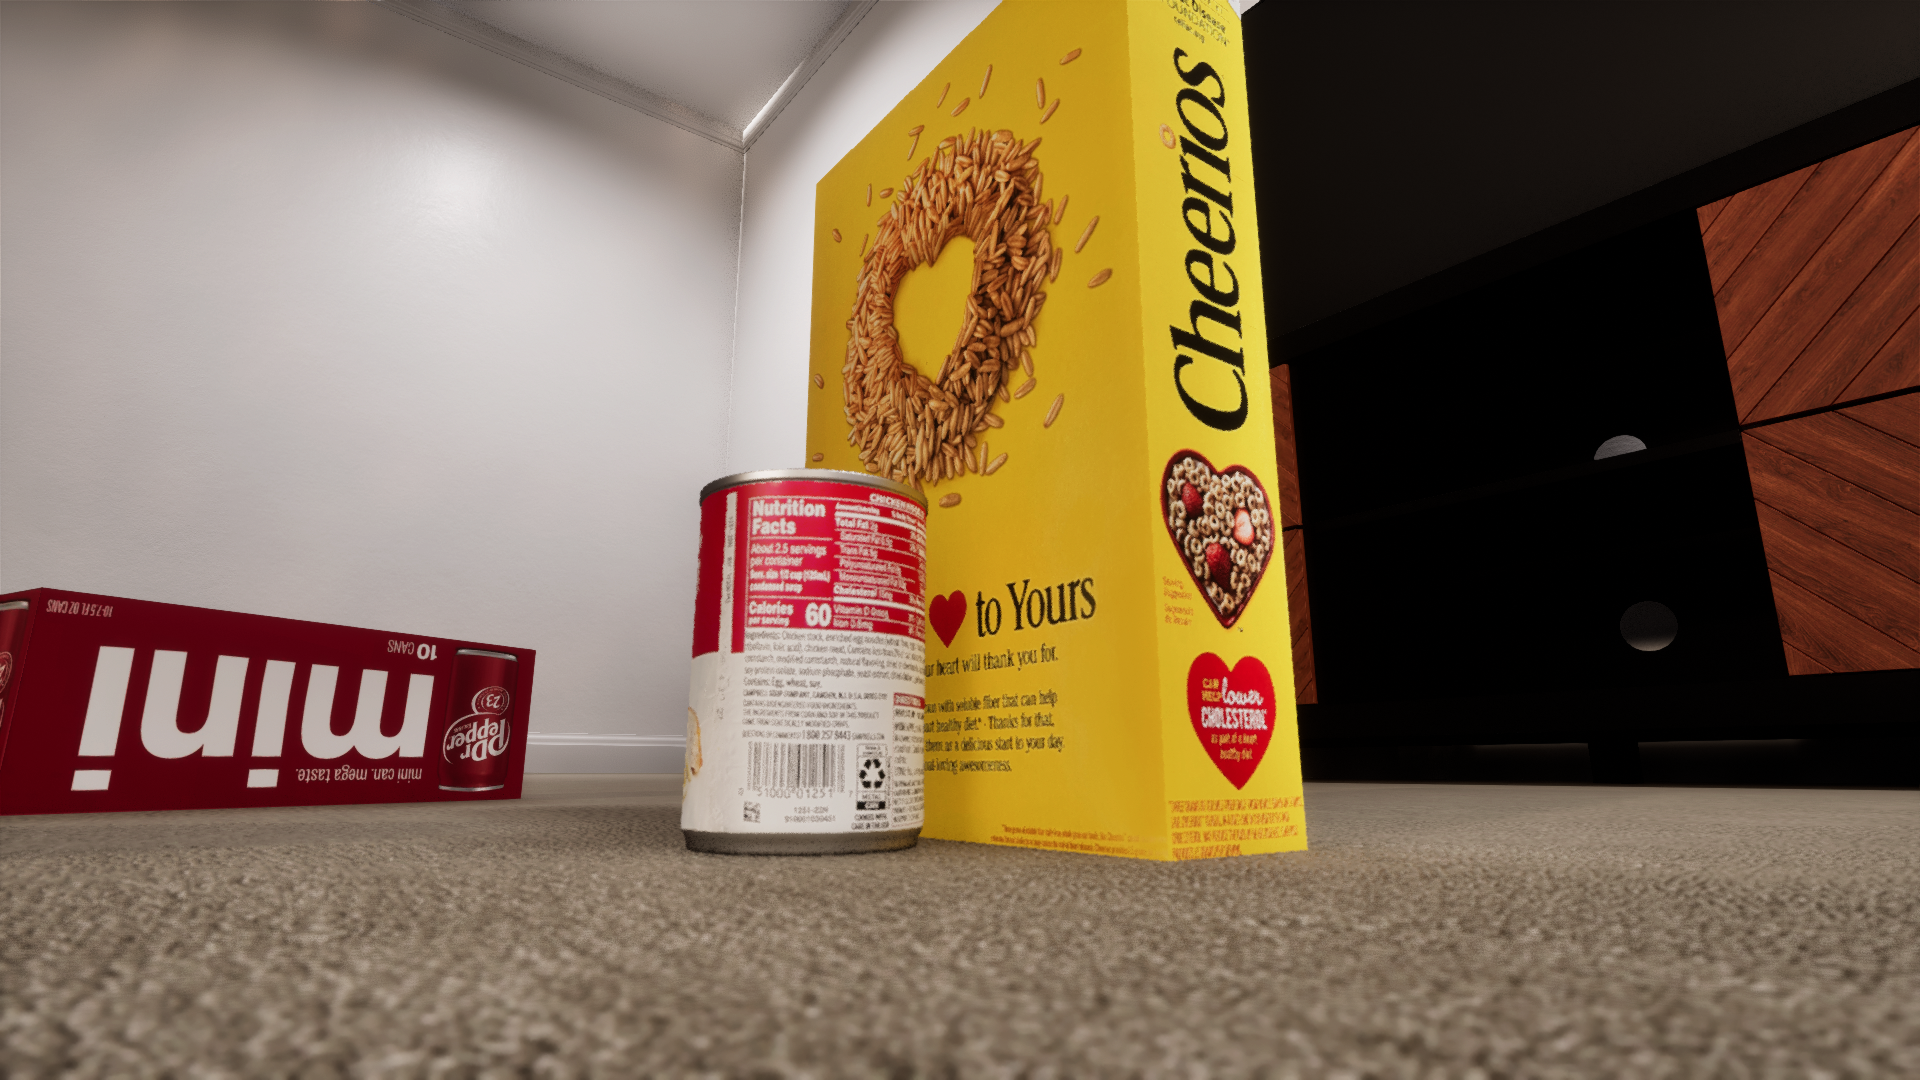cheerios: (804, 0, 1308, 861)
soup: (680, 468, 928, 856)
